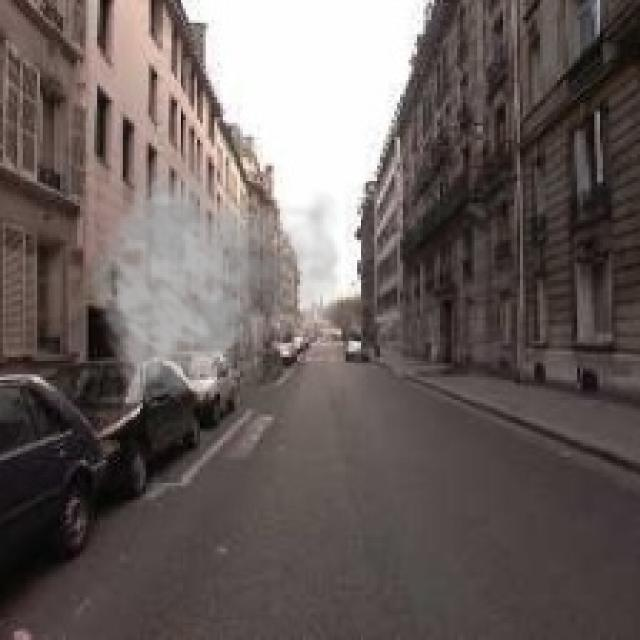smoke: (89, 148, 360, 406)
